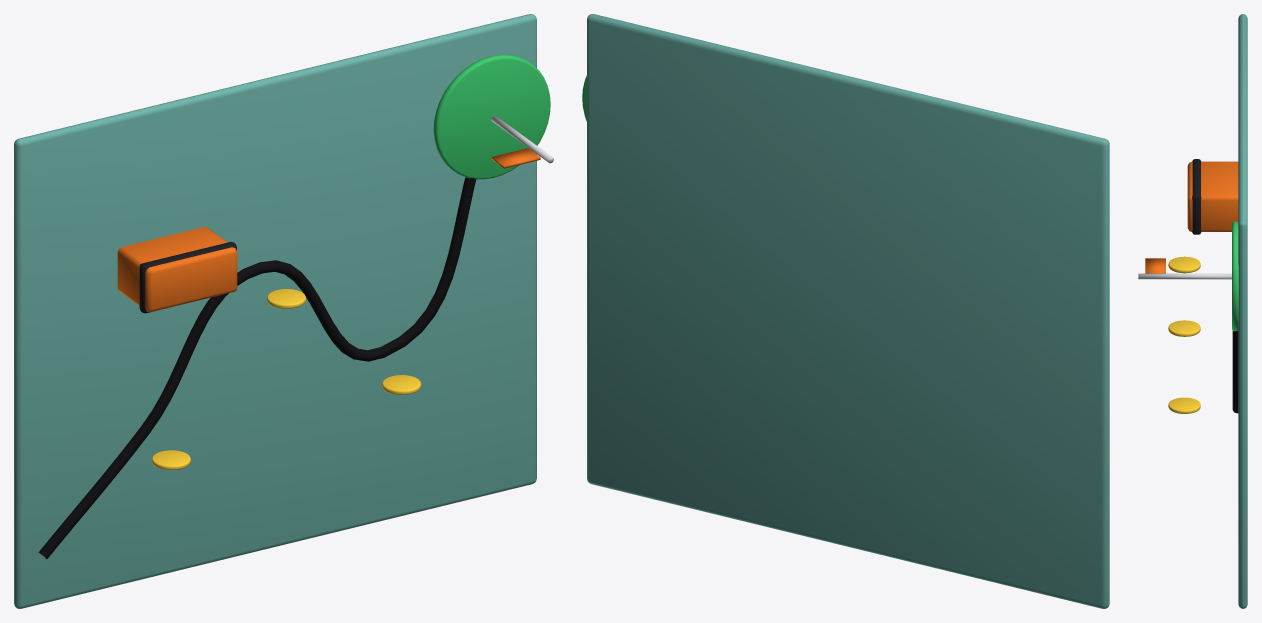
File: carthabot_props.obj
The picture shows the model from 3 angles, left to right: view 1: azimuth 30°, elevation 25°; view 2: azimuth 150°, elevation 25°; view 3: azimuth 270°, elevation 25°; orthographic projection. The views are drawn at different scales.
Parts seen in each view (by area): view 1: PlayMat, StartPad, LineTrack, Obstacle, ObsBand; view 2: PlayMat; view 3: PlayMat, Obstacle, StartPad, ObsBand, FlagPole, LineTrack, Coin_2, Coin_0, Coin_1, Flag.
Boxes of the visible parts, bbox=[...] form: PlayMat: bbox=[14, 14, 536, 608]; StartPad: bbox=[433, 55, 550, 179]; LineTrack: bbox=[38, 177, 476, 558]; Obstacle: bbox=[117, 227, 237, 311]; ObsBand: bbox=[139, 242, 236, 313]; PlayMat: bbox=[587, 14, 1109, 608]; PlayMat: bbox=[1238, 14, 1247, 608]; Obstacle: bbox=[1187, 161, 1238, 231]; StartPad: bbox=[1232, 221, 1238, 331]; ObsBand: bbox=[1192, 159, 1201, 234]; FlagPole: bbox=[1138, 273, 1231, 279]; LineTrack: bbox=[1232, 331, 1238, 413]; Coin_2: bbox=[1168, 320, 1200, 336]; Coin_0: bbox=[1168, 397, 1200, 413]; Coin_1: bbox=[1168, 256, 1200, 273]; Flag: bbox=[1145, 258, 1165, 273].
Bounding box in the file's own units: 8.75 × 7.4 × 1.89.
